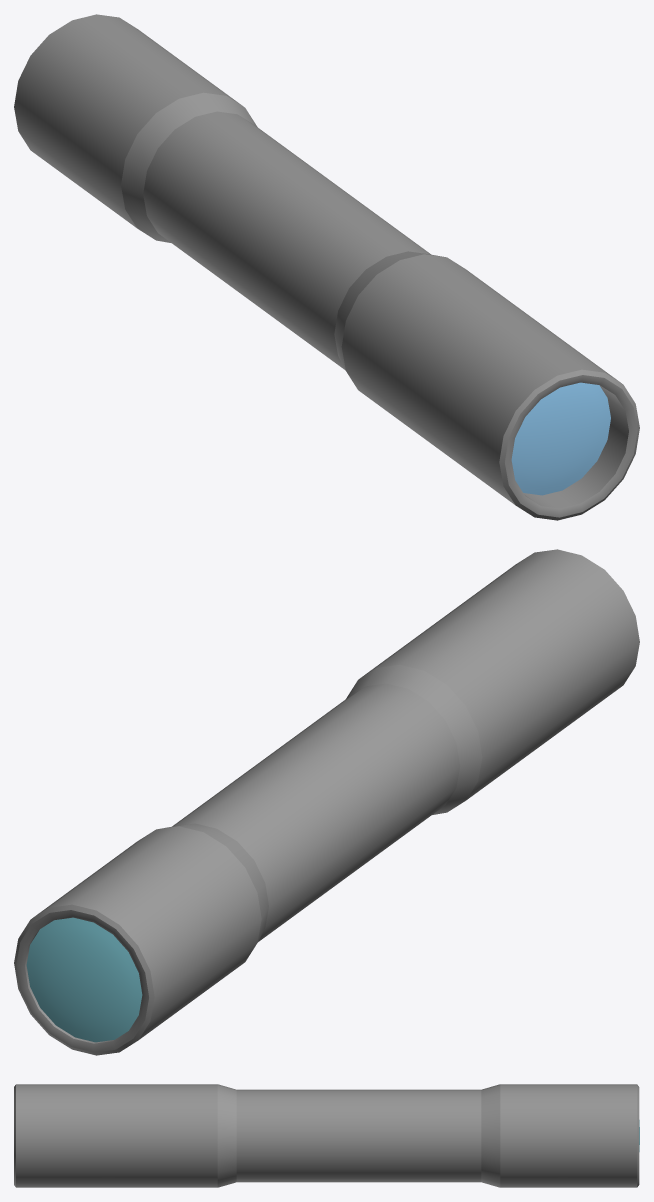
The model's file is OpticalAim.FBX.
3 views of the same model, one above another, from view 1: azimuth 30°, elevation 25°; view 2: azimuth 150°, elevation 25°; view 3: azimuth 270°, elevation 25° (orthographic). The views are drawn at different scales.
Parts seen in each view (by area): view 1: Cylinder001, OilTank002; view 2: Cylinder001, OilTank001; view 3: Cylinder001.
Part boxes in pixels (left/top/right/bottom): Cylinder001: left=14, top=14, right=639, bottom=520; OilTank002: left=511, top=382, right=610, bottom=495; Cylinder001: left=14, top=549, right=639, bottom=1055; OilTank001: left=26, top=917, right=142, bottom=1042; Cylinder001: left=14, top=1084, right=639, bottom=1187.
Size of the model in its own units: 34.73 by 34.2 by 209.
